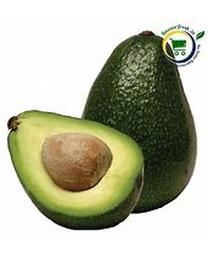avocado: (80, 30, 199, 216), (7, 108, 147, 232)
